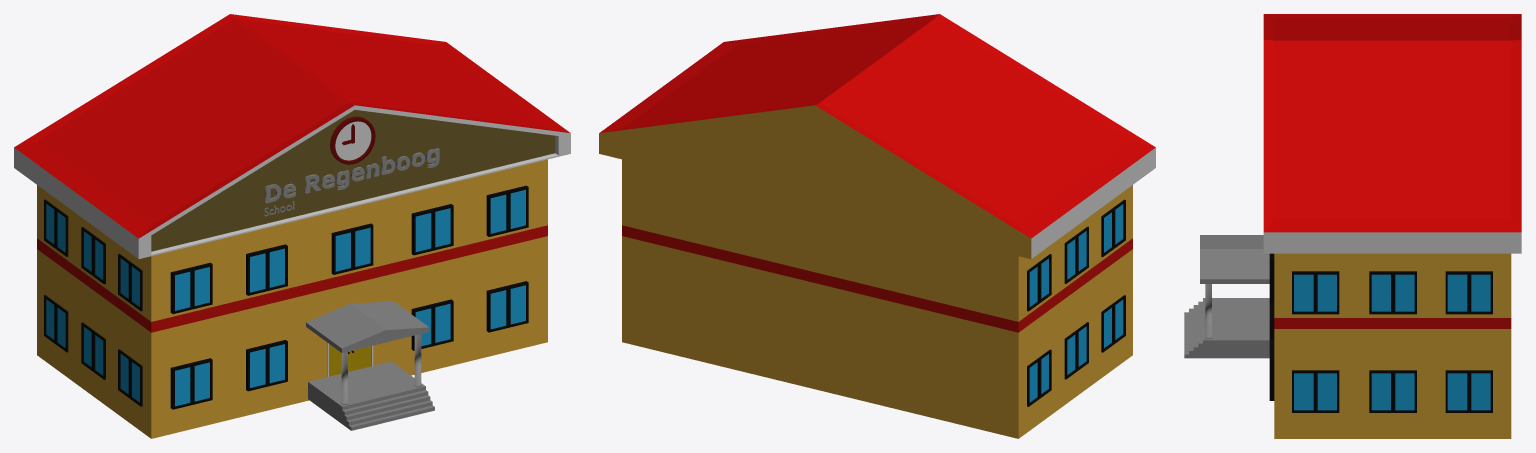
The model's file is school.glb.
3 renders of one model, left to right at view 1: azimuth 30°, elevation 25°; view 2: azimuth 150°, elevation 25°; view 3: azimuth 270°, elevation 25°, orthographic. The views are drawn at different scales.
Visible parts, largest first — view 1: Cube.1, Cube.002.6, Text.001.4, Cube.004.8, Cube.003.7, Cube.006.10, Cube.007.11, Cube.008.12, Cube.010.14, Cube.009.13, Cube.005.9, Cylinder.2 (+8 smaller); view 2: Cube.1, Cube.011.15, Cube.014.18, Cube.015.19, Cube.016.20, Cube.012.16, Cube.013.17; view 3: Cube.1, Cube.002.6, Cube.022.26, Cube.018.22, Cube.020.24, Cube.017.21, Cube.019.23, Cube.021.25, Cube.003.7.
Part boxes in pixels (<box>): Cube.1: <box>14,14,570,438</box>; Cube.002.6: <box>306,301,434,430</box>; Text.001.4: <box>265,148,439,203</box>; Cube.004.8: <box>170,358,212,409</box>; Cube.003.7: <box>486,281,528,332</box>; Cube.006.10: <box>411,204,453,255</box>; Cube.007.11: <box>486,185,528,236</box>; Cube.008.12: <box>170,262,212,313</box>; Cube.010.14: <box>331,223,373,274</box>; Cube.009.13: <box>246,244,287,295</box>; Cube.005.9: <box>246,340,287,391</box>; Cylinder.2: <box>330,116,375,164</box>; Cube.1: <box>599,14,1155,438</box>; Cube.011.15: <box>1101,295,1125,352</box>; Cube.014.18: <box>1027,254,1051,311</box>; Cube.015.19: <box>1064,322,1088,379</box>; Cube.016.20: <box>1064,226,1088,283</box>; Cube.012.16: <box>1101,199,1125,256</box>; Cube.013.17: <box>1027,349,1051,406</box>; Cube.1: <box>1263,14,1521,438</box>; Cube.002.6: <box>1184,235,1269,358</box>; Cube.022.26: <box>1369,271,1416,314</box>; Cube.018.22: <box>1445,271,1492,314</box>; Cube.020.24: <box>1292,271,1339,314</box>; Cube.017.21: <box>1445,370,1492,412</box>; Cube.019.23: <box>1292,370,1339,412</box>; Cube.021.25: <box>1369,370,1416,412</box>; Cube.003.7: <box>1269,339,1274,400</box>.
Bounding box in the file's own units: 4359 × 2786 × 2849.
